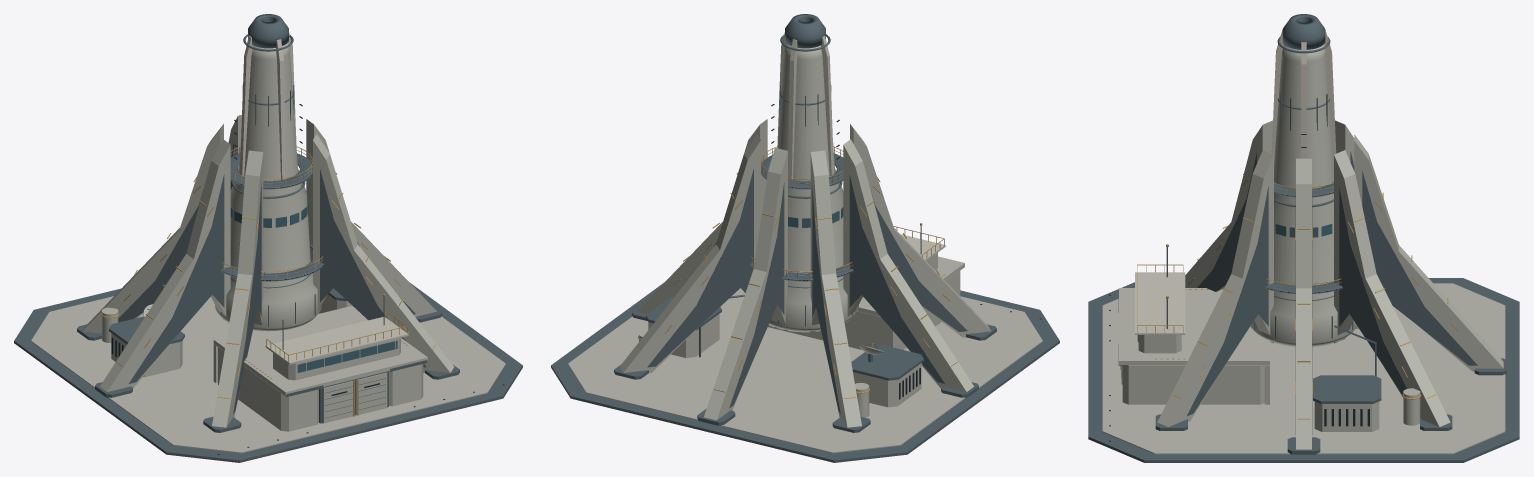
3 views of the same model, side by side, from view 1: azimuth 30°, elevation 25°; view 2: azimuth 150°, elevation 25°; view 3: azimuth 270°, elevation 25° (orthographic). The views are drawn at different scales.
Parts seen in each view (by area): view 1: SURFACE_STRUCTURE, HANGAR_DOOR_R_SURFACE, HANGAR_DOOR_L_SURFACE; view 2: SURFACE_STRUCTURE; view 3: SURFACE_STRUCTURE.
Boxes of the visible parts, bbox=[...] form: SURFACE_STRUCTURE: bbox=[14, 14, 522, 462]; HANGAR_DOOR_R_SURFACE: bbox=[355, 371, 387, 415]; HANGAR_DOOR_L_SURFACE: bbox=[322, 379, 354, 423]; SURFACE_STRUCTURE: bbox=[551, 14, 1059, 462]; SURFACE_STRUCTURE: bbox=[1088, 14, 1519, 462].
Size of the model in its own units: 60 by 54 by 60.
